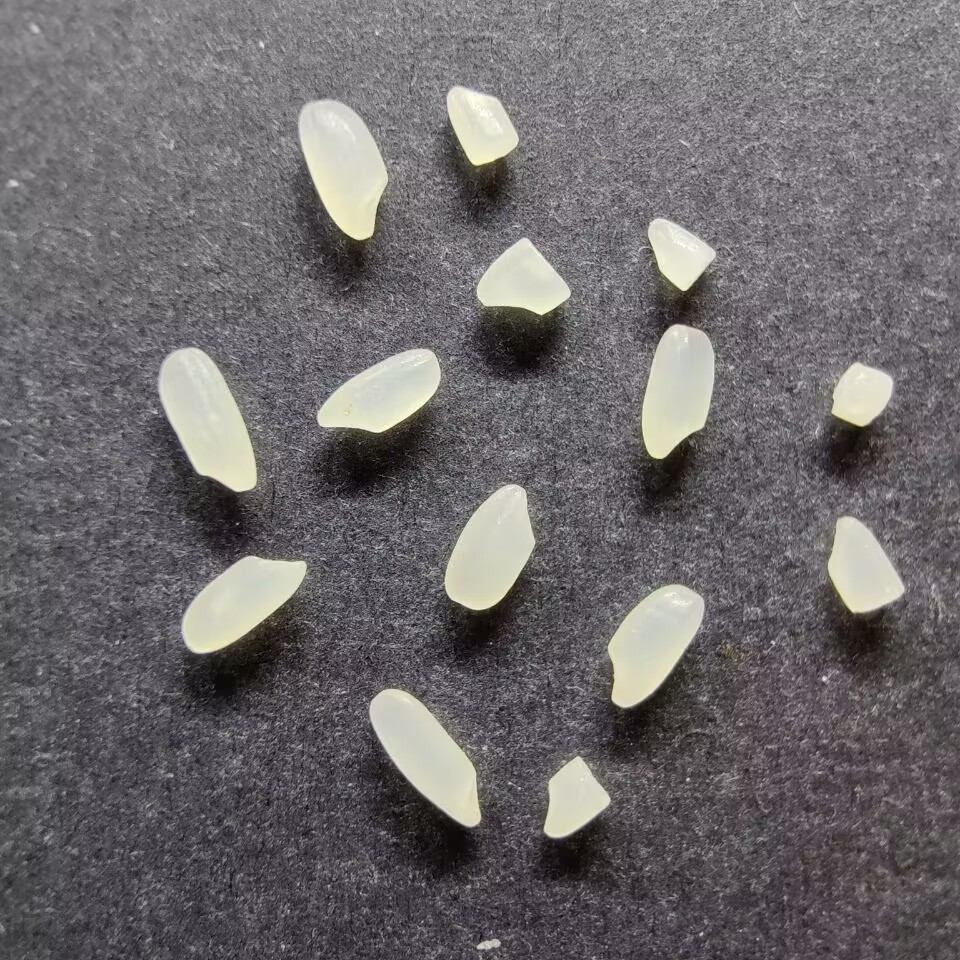broken: (826, 515, 905, 614), (475, 237, 570, 315), (444, 84, 519, 165), (542, 756, 614, 840), (646, 217, 716, 293), (830, 361, 893, 427)
rice: (368, 687, 481, 830), (157, 347, 257, 493), (297, 99, 389, 241), (180, 555, 307, 654), (606, 583, 704, 708), (443, 484, 535, 610), (316, 348, 440, 433), (640, 324, 714, 459)
